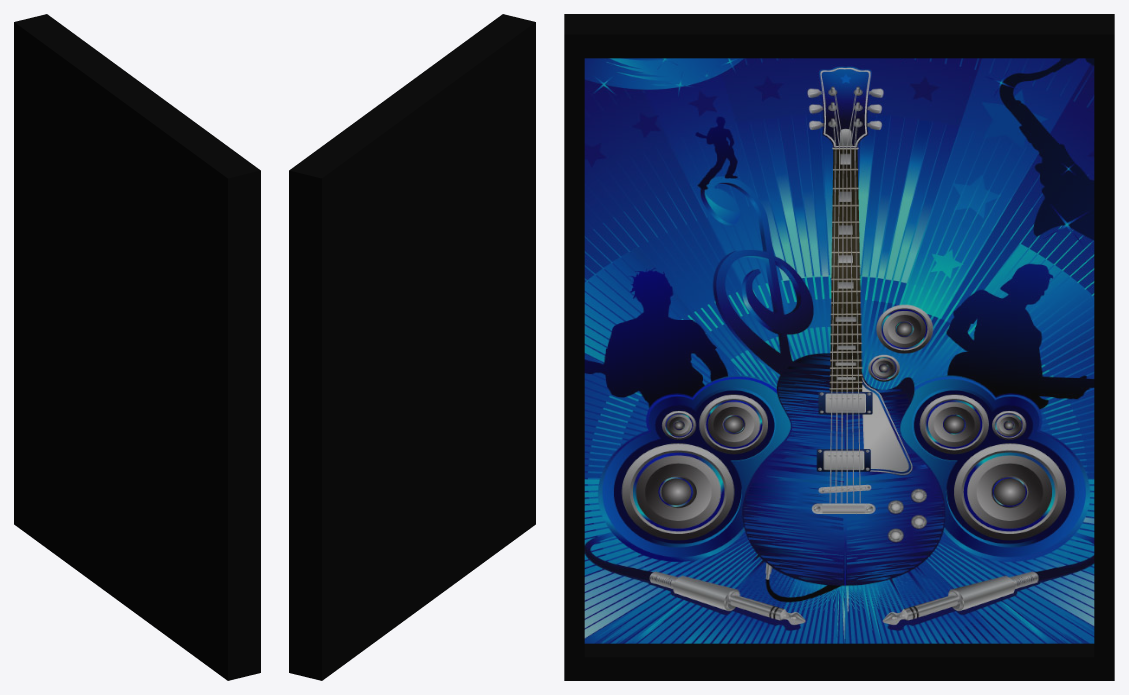
File: Poster1_blue.fbx
3 views of the same model, side by side, from view 1: azimuth 30°, elevation 25°; view 2: azimuth 150°, elevation 25°; view 3: azimuth 270°, elevation 25° (orthographic). The views are drawn at different scales.
Parts seen in each view (by area): view 1: pCube1; view 2: pCube1; view 3: pCube1.
Boxes of the visible parts, x1=… form: pCube1: x1=14, y1=14, x2=260, y2=680; pCube1: x1=289, y1=14, x2=535, y2=680; pCube1: x1=564, y1=14, x2=1114, y2=680.
Bounding box in the file's own units: 0.883 × 12.86 × 9.92.
